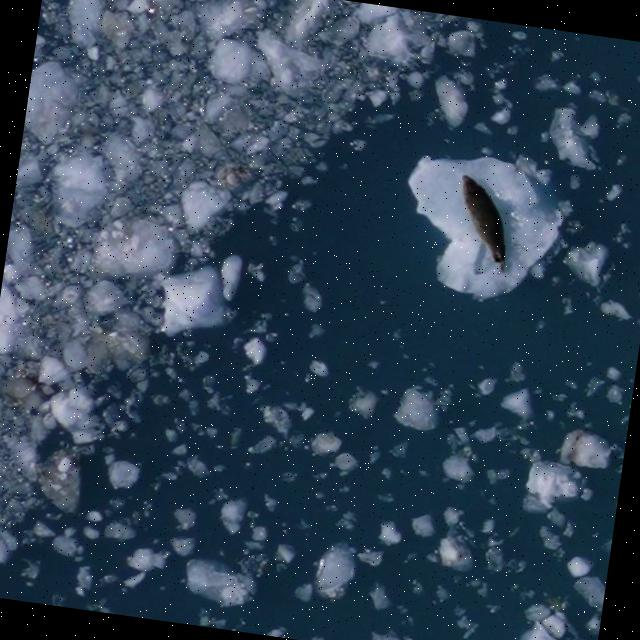seal: (460, 172, 507, 273)
